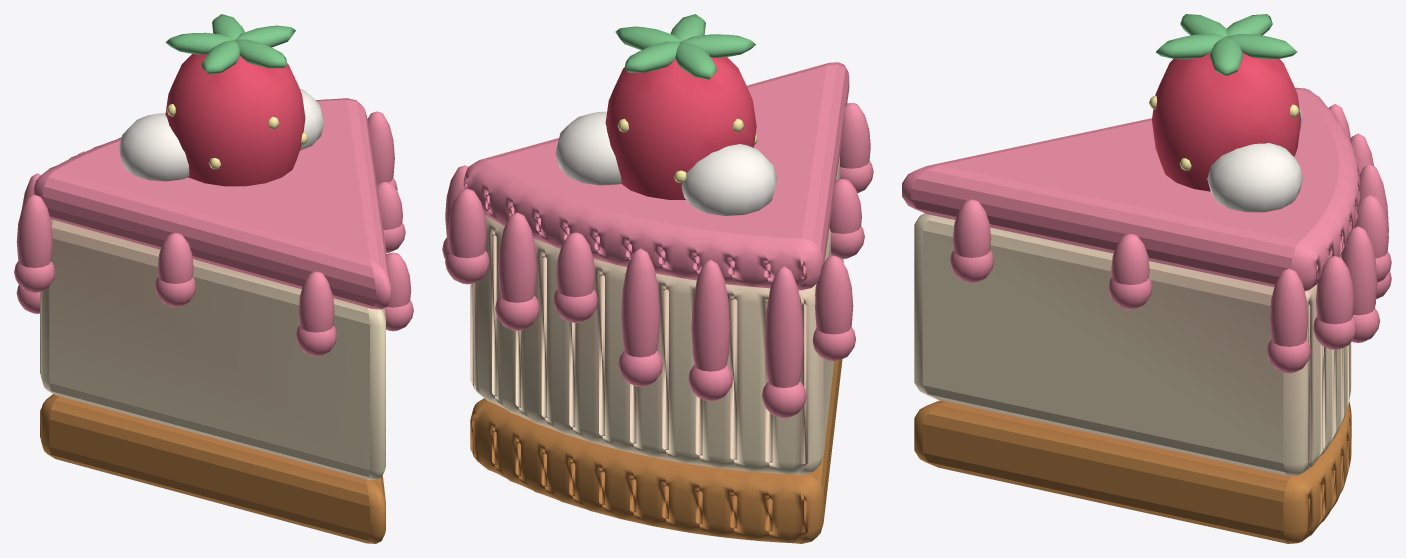
Rendered from cheesecake.glb.
3 renders of one model, left to right at view 1: azimuth 30°, elevation 25°; view 2: azimuth 150°, elevation 25°; view 3: azimuth 270°, elevation 25°, orthographic. The views are drawn at different scales.
Parts seen in each view (by area): view 1: cake, cf48fa8, crust, berry_body, cfffaf3, c7cc68a; view 2: cf48fa8, cake, crust, berry_body, cfffaf3, c7cc68a; view 3: cake, cf48fa8, crust, berry_body, cfffaf3, c7cc68a.
Part boxes in pixels (bbox=[...]): cake: bbox=[40, 219, 385, 480]; cf48fa8: bbox=[14, 98, 413, 356]; crust: bbox=[40, 394, 385, 543]; berry_body: bbox=[165, 53, 305, 186]; cfffaf3: bbox=[119, 89, 324, 181]; c7cc68a: bbox=[165, 14, 295, 74]; cf48fa8: bbox=[442, 62, 873, 418]; cake: bbox=[470, 156, 843, 475]; crust: bbox=[470, 359, 842, 543]; berry_body: bbox=[605, 57, 756, 199]; cfffaf3: bbox=[555, 111, 776, 215]; c7cc68a: bbox=[615, 14, 755, 79]; cake: bbox=[914, 213, 1351, 476]; cf48fa8: bbox=[902, 87, 1391, 373]; crust: bbox=[914, 400, 1351, 543]; berry_body: bbox=[1152, 52, 1301, 191]; cfffaf3: bbox=[1207, 105, 1303, 212]; c7cc68a: bbox=[1156, 14, 1297, 76].
Bounding box in the file's own units: 0.4348 × 0.45 × 0.4587.
